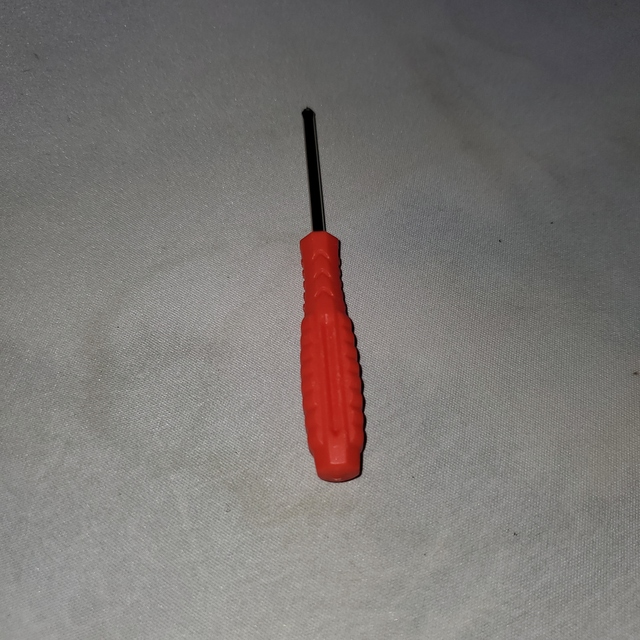screwdriver: (264, 86, 393, 499)
